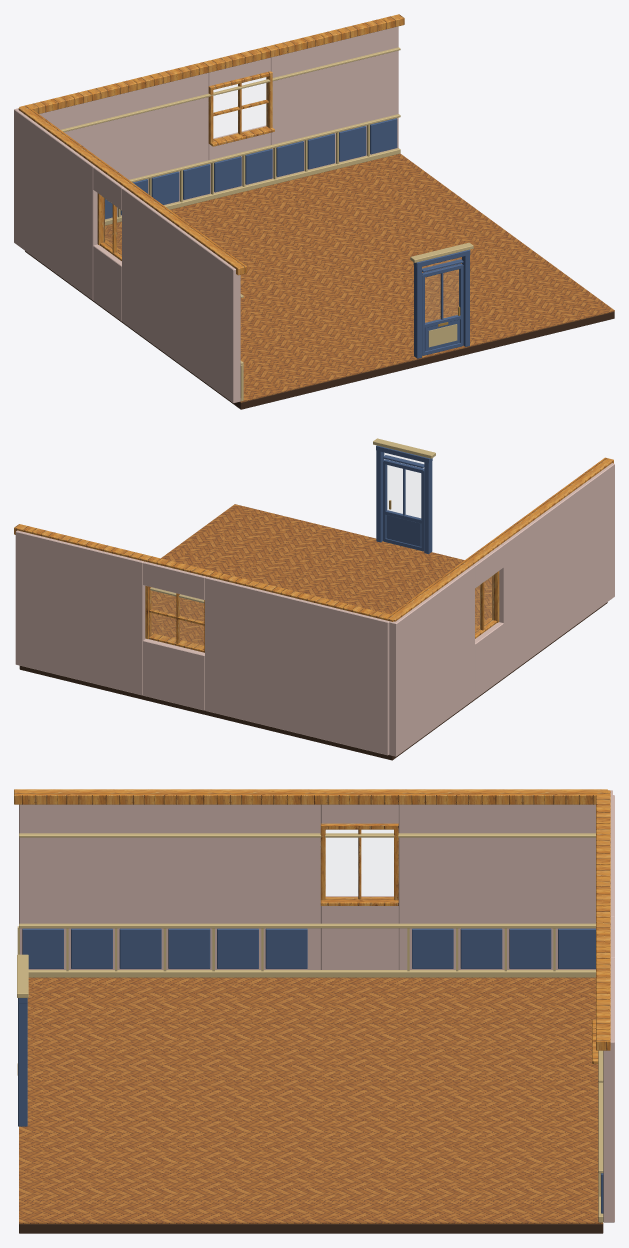
3 views of the same model, one above another, from view 1: azimuth 30°, elevation 25°; view 2: azimuth 150°, elevation 25°; view 3: azimuth 270°, elevation 25° (orthographic). The views are drawn at different scales.
Parts seen in each view (by area): view 1: shop_tailor_floor, shop_tailor_wall, shop_oak, shop_tailor_wainscot, shop_tailor_trim, shop_wood_dark, door_leaf_tailor, shop_tailor_door; view 2: shop_tailor_wall, shop_tailor_floor, shop_oak, door_leaf_tailor, shop_wood_dark, shop_tailor_door, shop_tailor_trim; view 3: shop_tailor_floor, shop_tailor_wall, shop_tailor_wainscot, shop_oak, shop_tailor_trim, shop_wood_dark, shop_tailor_door.
Part boxes in pixels (<box>): shop_tailor_floor: <box>105,153,614,402</box>; shop_tailor_wall: <box>14,26,398,403</box>; shop_oak: <box>18,14,404,275</box>; shop_tailor_wainscot: <box>105,118,397,218</box>; shop_tailor_trim: <box>60,47,473,401</box>; shop_wood_dark: <box>25,251,614,409</box>; door_leaf_tailor: <box>422,263,463,355</box>; shop_tailor_door: <box>413,249,470,358</box>; shop_tailor_wall: <box>15,463,614,756</box>; shop_tailor_floor: <box>151,504,491,645</box>; shop_oak: <box>14,457,613,652</box>; door_leaf_tailor: <box>383,459,424,551</box>; shop_wood_dark: <box>19,602,607,760</box>; shop_tailor_door: <box>376,445,432,554</box>; shop_tailor_trim: <box>150,438,494,603</box>; shop_tailor_floor: <box>19,977,603,1223</box>; shop_tailor_wall: <box>19,790,614,1222</box>; shop_tailor_wainscot: <box>22,928,603,1213</box>; shop_oak: <box>14,789,610,1063</box>; shop_tailor_trim: <box>17,833,603,1222</box>; shop_wood_dark: <box>19,1224,603,1233</box>; shop_tailor_door: <box>18,998,27,1126</box>.
Size of the model in its own units: 12.34 by 4.41 by 12.34.
Materials: 9 (2 with a texture image).
